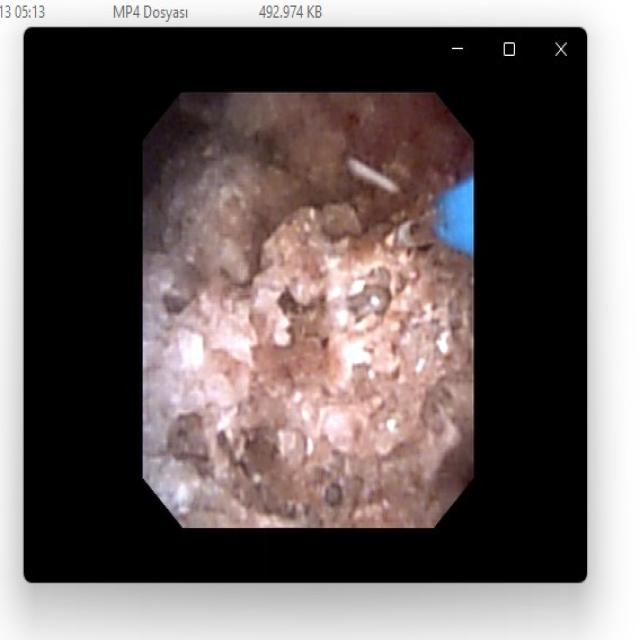fiber: (438, 183, 470, 254)
stone: (149, 97, 467, 521)
